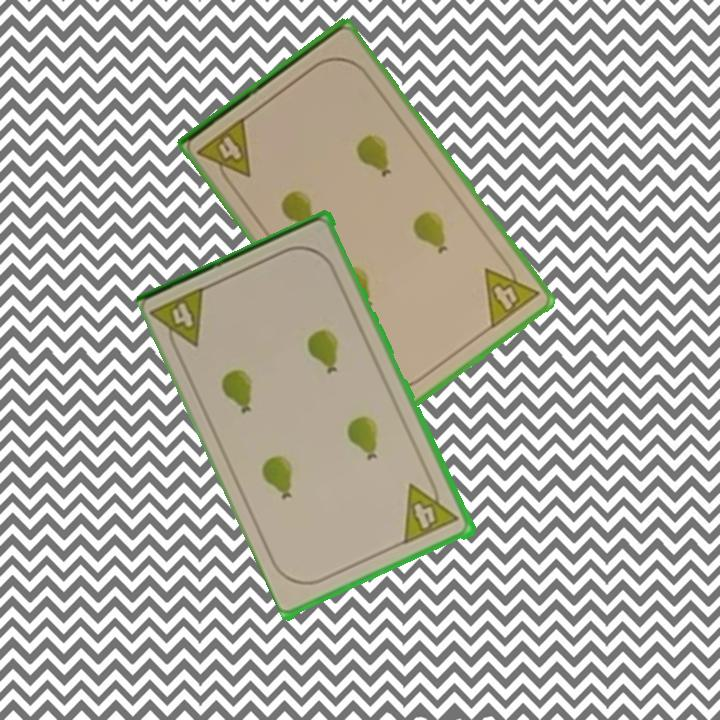4p: (480, 252, 543, 332), (149, 282, 211, 359), (194, 113, 255, 191), (400, 473, 463, 547)
